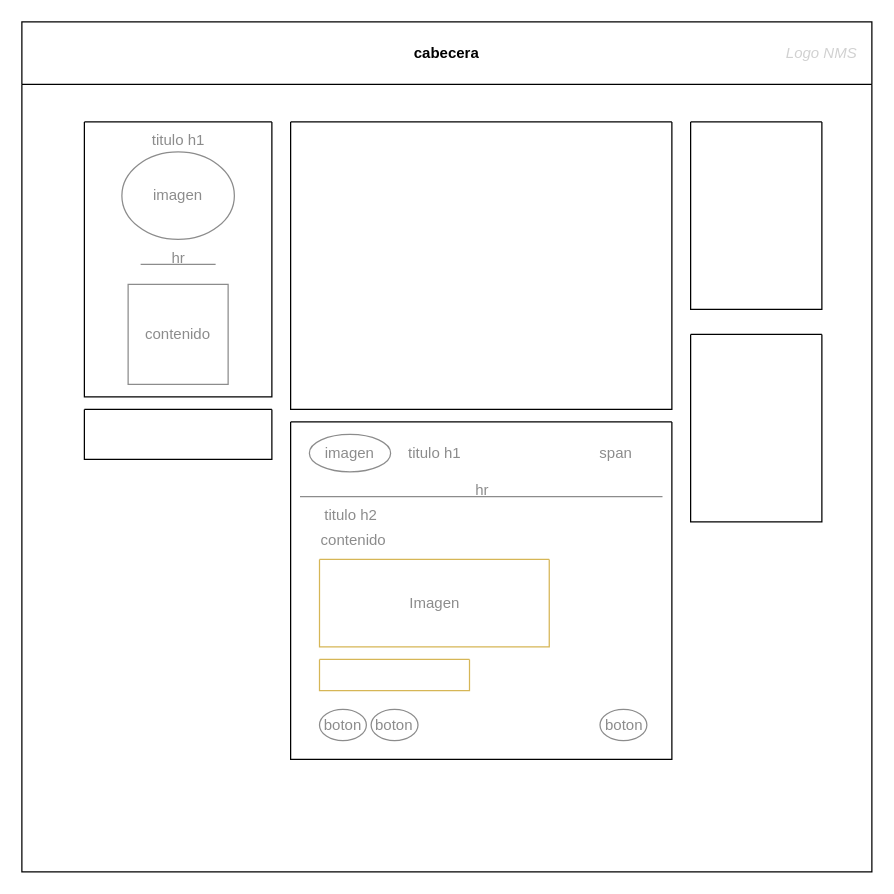
This 894x894 diagram has some shape labels left out. Here are the shapes that lost their labels. From the top down, the centre of each, then its label:
At [480,265]: "Formulario".
At [177,433]: "Menú Auxiliar".
At [394,674]: "enlace".
